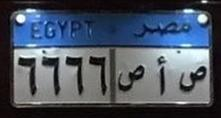6: (17, 54, 38, 95), (41, 55, 62, 94), (66, 55, 85, 94), (89, 55, 107, 96)
alif: (158, 55, 168, 95)
saad: (175, 63, 209, 94), (115, 63, 147, 95)
